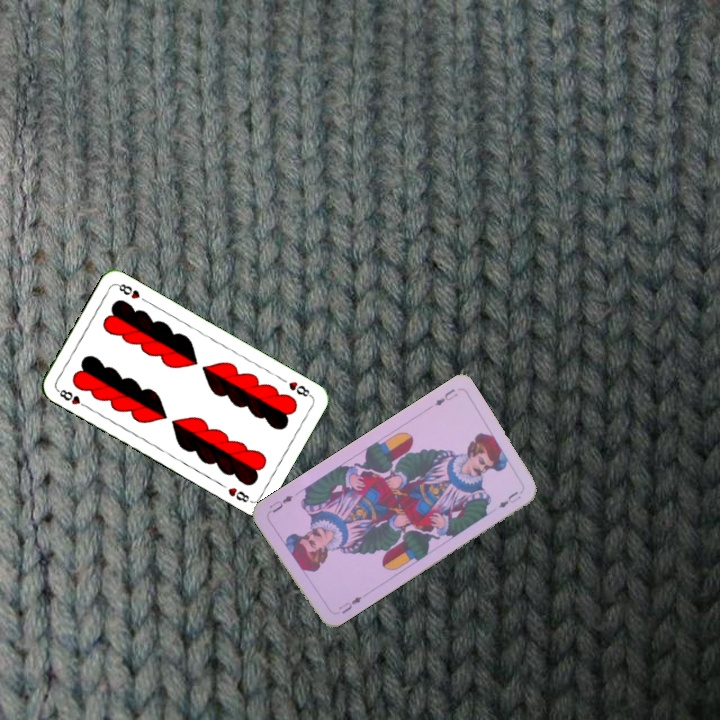EU: (335, 592, 365, 616), (431, 385, 460, 408)
H8: (53, 385, 91, 411), (284, 377, 314, 399)
